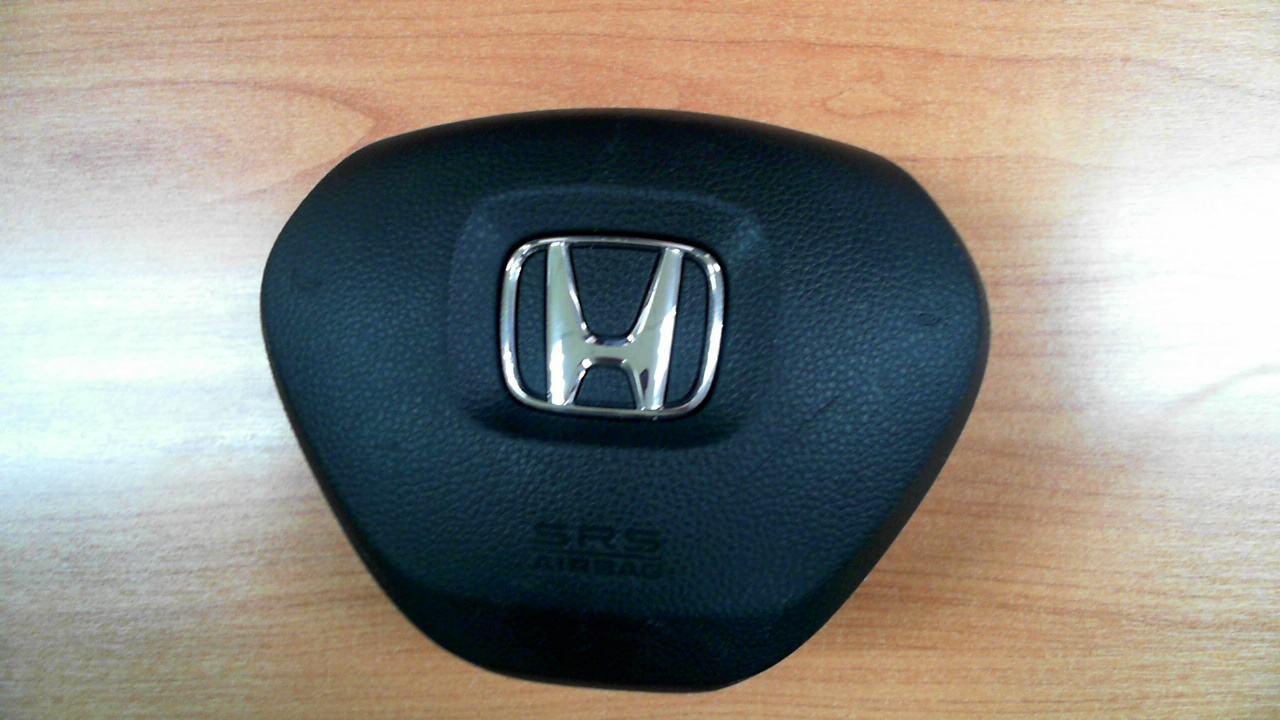Airbag: (260, 107, 993, 694)
Honda: (499, 235, 725, 421)
